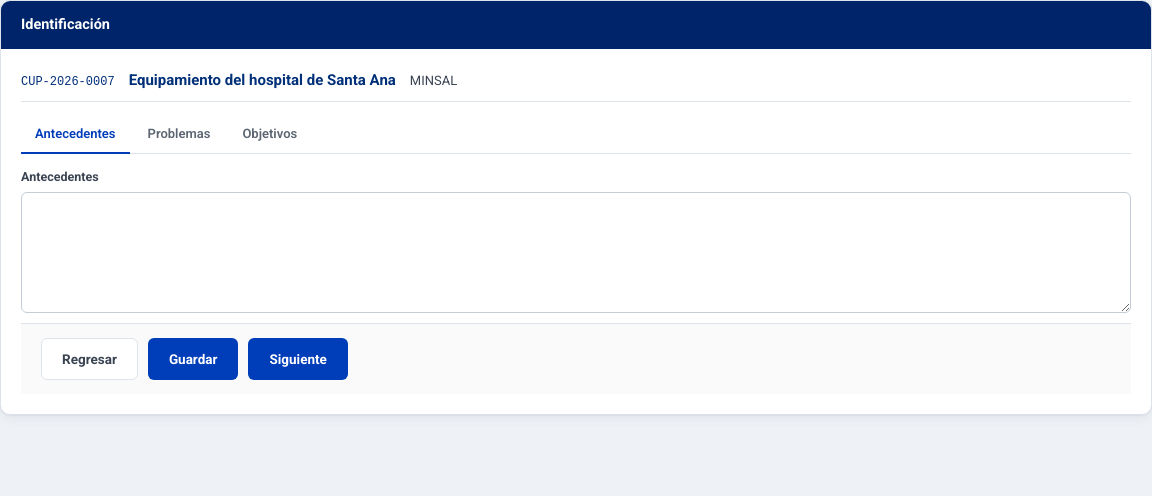
Test: IdentificacionPage · CU-PRE-04 › árboles en PDF › elimina el archivo tras confirmar
Expected: the text "MINSAL" is shown, [410,71,457,90]
Click the tab "Problemas". click: (179, 135)
box: [134,116,224,154]
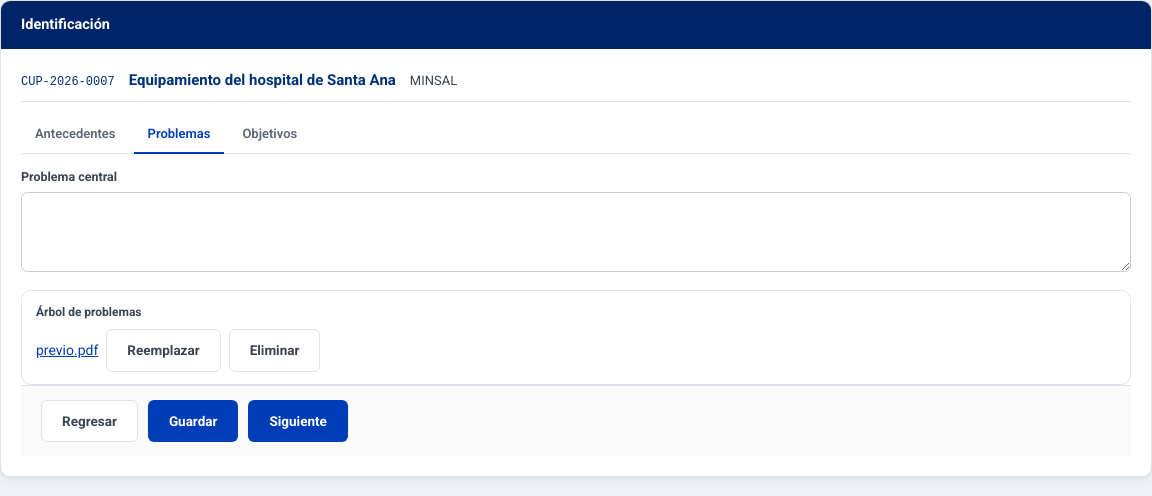
Expected: the button "previo.pdf" is shown, [36,340,98,361]
Click the button "Eliminar". click: (275, 350)
box: [229,329,320,372]
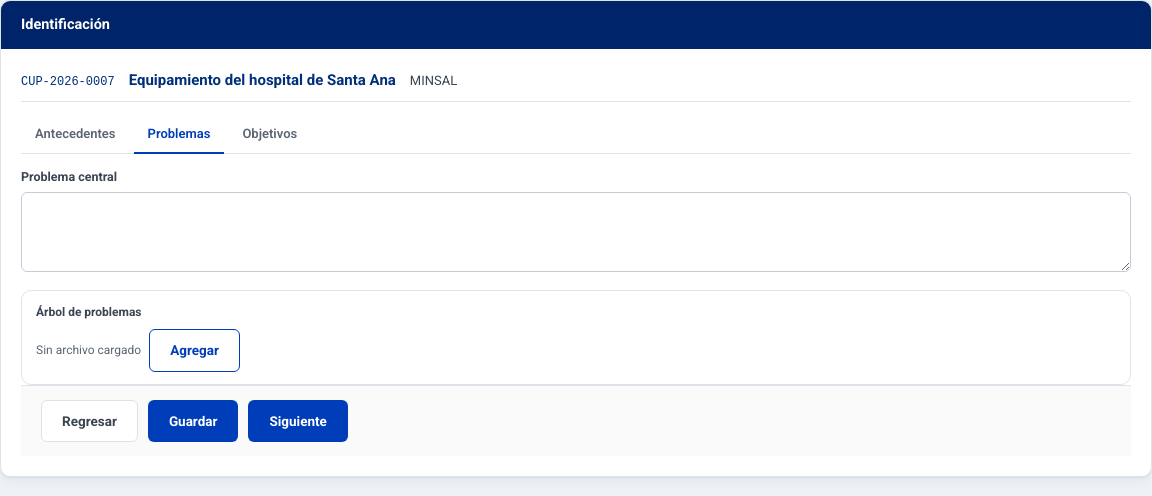
Expected: the button "previo.pdf" is gone
